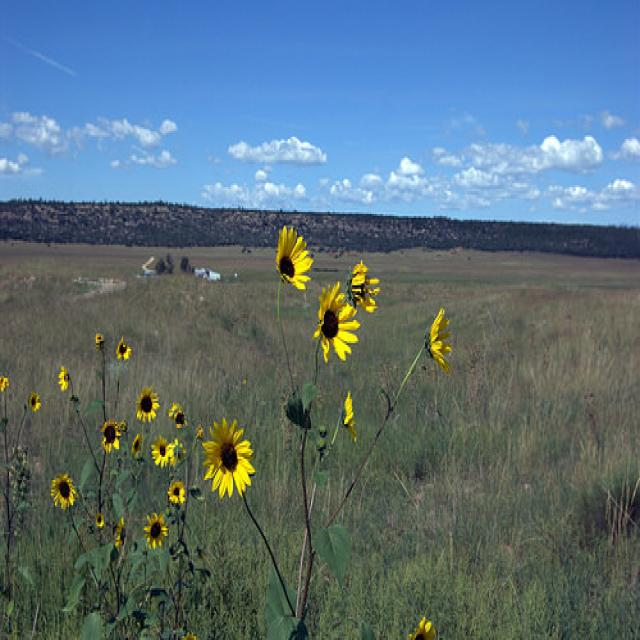sunflower: (196, 413, 258, 499), (308, 281, 360, 367), (419, 298, 459, 382), (273, 221, 315, 298), (342, 259, 393, 317), (336, 388, 365, 451), (46, 464, 78, 512), (97, 414, 124, 461), (141, 506, 166, 554), (135, 385, 158, 425), (165, 471, 187, 512), (165, 400, 191, 431), (147, 431, 169, 467), (165, 436, 190, 466), (113, 515, 129, 553), (116, 334, 132, 364), (130, 431, 144, 462), (58, 366, 73, 394), (27, 392, 43, 414), (92, 327, 108, 348), (0, 370, 12, 395), (96, 512, 104, 527)
